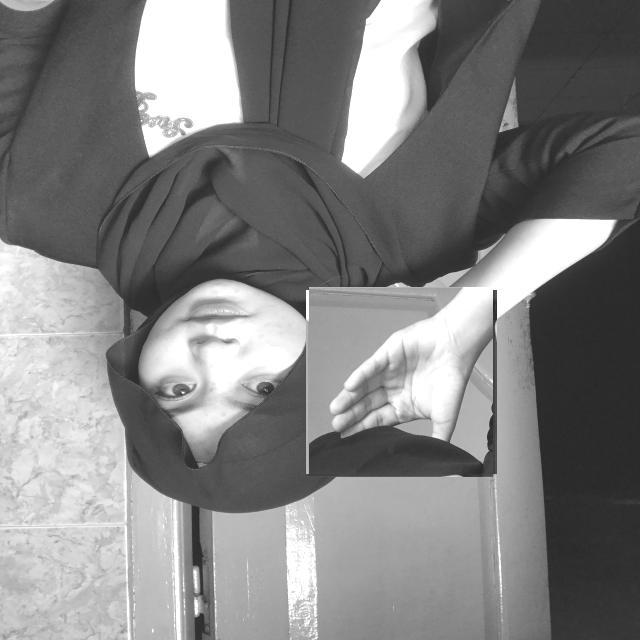mendengar: (308, 288, 495, 476)
